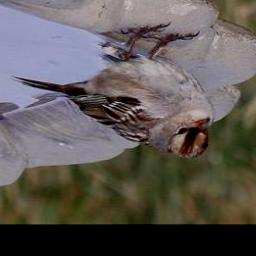Sparrow: (10, 21, 221, 160)
